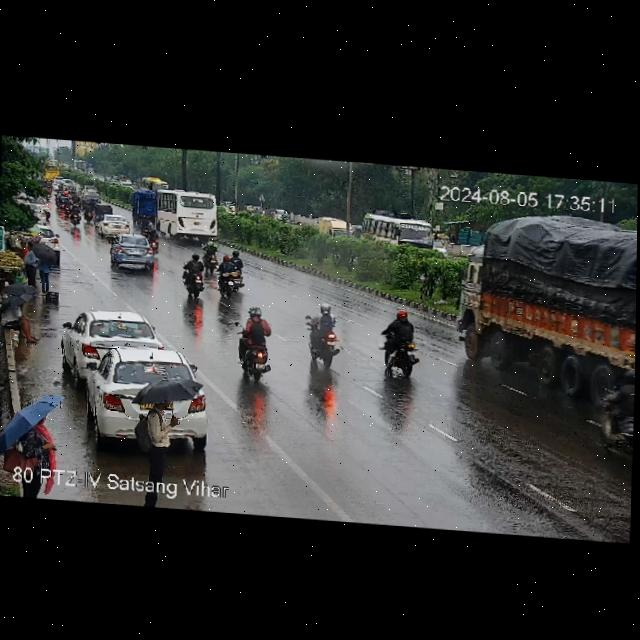bus: (152, 176, 220, 248), (363, 207, 443, 260), (43, 164, 63, 184)
car: (87, 346, 214, 448), (59, 307, 154, 387), (98, 230, 166, 278), (31, 221, 63, 258), (94, 213, 132, 236), (25, 200, 51, 227), (79, 180, 104, 203), (93, 203, 113, 216)
motorcycle: (378, 302, 431, 384), (236, 304, 293, 378), (302, 293, 352, 367), (601, 383, 634, 451), (177, 246, 210, 306), (195, 233, 227, 280), (218, 253, 238, 303), (229, 244, 246, 289), (46, 187, 76, 208), (144, 229, 164, 258), (63, 201, 83, 229), (83, 199, 101, 229), (139, 214, 151, 234), (279, 209, 291, 222)
person: (128, 372, 199, 477), (2, 381, 71, 467), (0, 290, 43, 353), (6, 276, 44, 320), (37, 242, 65, 296), (20, 238, 40, 282)
truck: (443, 211, 637, 391), (311, 209, 349, 246), (125, 182, 157, 223)
